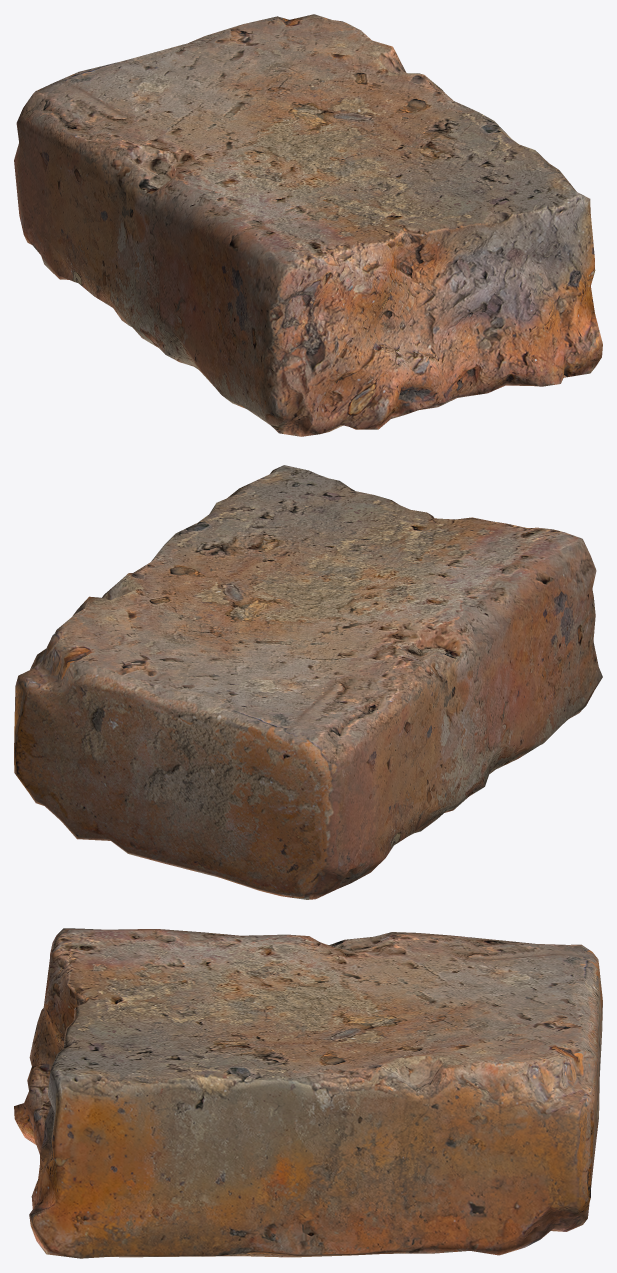
The model's file is sm_Brick_01_01.fbx.
The picture shows the model from 3 angles, top to bottom: view 1: azimuth 30°, elevation 25°; view 2: azimuth 150°, elevation 25°; view 3: azimuth 270°, elevation 25°; orthographic projection.
Parts seen in each view (by area): view 1: sm_Brick_01_01_LOD0; view 2: sm_Brick_01_01_LOD0; view 3: sm_Brick_01_01_LOD0.
Part boxes in pixels (<box>): sm_Brick_01_01_LOD0: <box>14,14,602,436</box>; sm_Brick_01_01_LOD0: <box>14,465,602,899</box>; sm_Brick_01_01_LOD0: <box>14,928,602,1258</box>.
Bounding box in the file's own units: 11.53 × 17.59 × 6.34.
